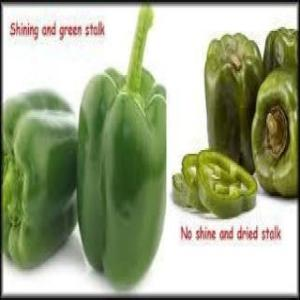bell_pepper: (68, 10, 168, 290), (3, 89, 78, 282)
